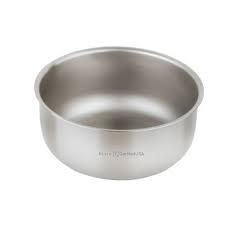Sponge Bowl: (32, 41, 204, 181)
